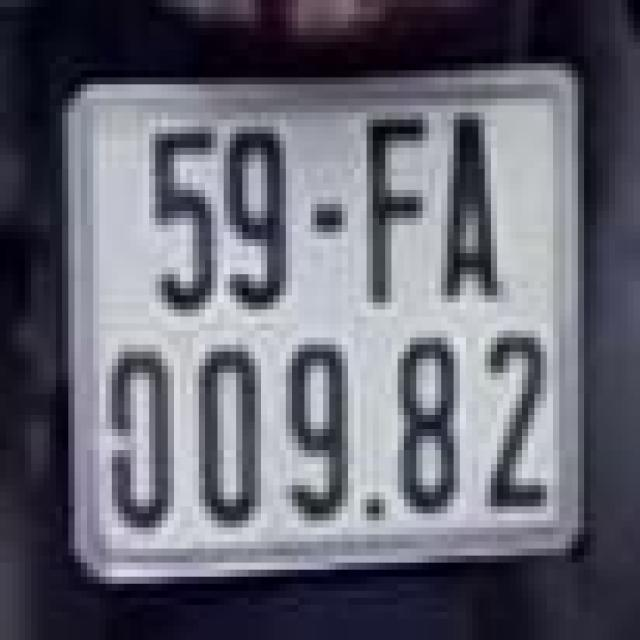0: (100, 341, 180, 552), (183, 334, 264, 538)
2: (478, 320, 566, 524)
5: (127, 116, 227, 320)
8: (388, 320, 476, 517)
9: (283, 334, 357, 531), (218, 123, 292, 320)
A: (435, 98, 534, 310)
F: (354, 113, 435, 310)
